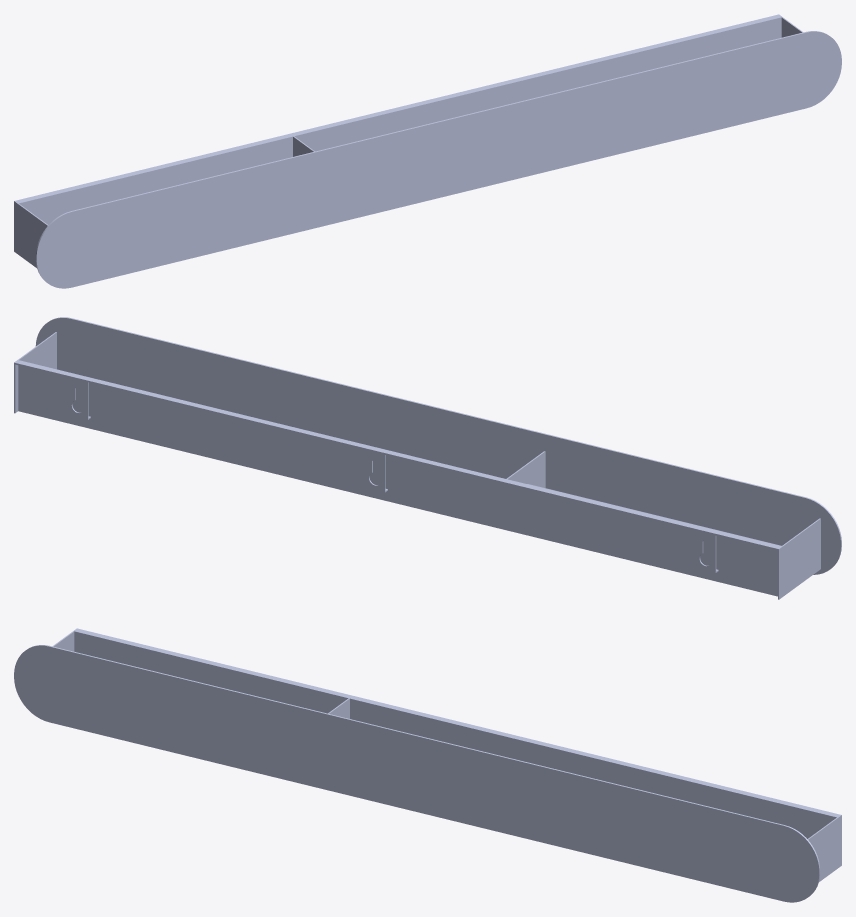
File: round-double.72f5f401ce.glb
3 views of the same model, one above another, from view 1: azimuth 30°, elevation 25°; view 2: azimuth 150°, elevation 25°; view 3: azimuth 330°, elevation 25° (orthographic).
Visible parts, largest first — view 1: NAUO1; view 2: NAUO1; view 3: NAUO1.
Part boxes in pixels (bbox=[...]): NAUO1: bbox=[14, 14, 841, 288]; NAUO1: bbox=[14, 317, 841, 599]; NAUO1: bbox=[14, 628, 841, 902].
Size of the model in its own units: 1 by 0.09 by 0.092.
